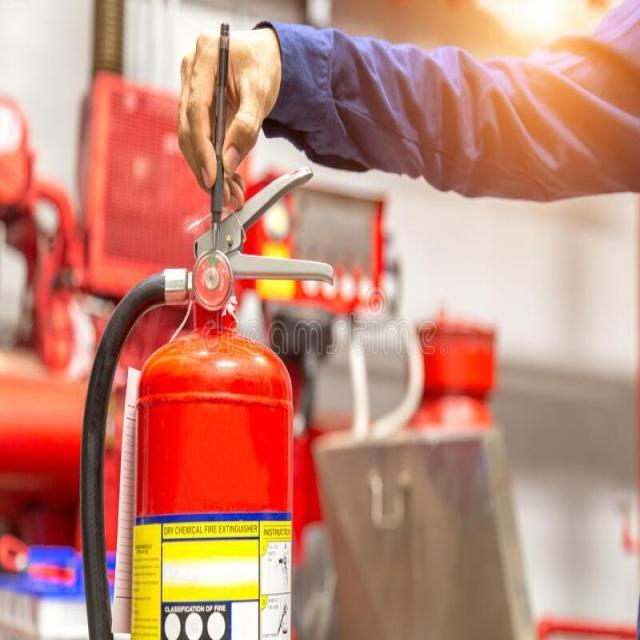fire_extinguisher: (72, 158, 342, 639)
